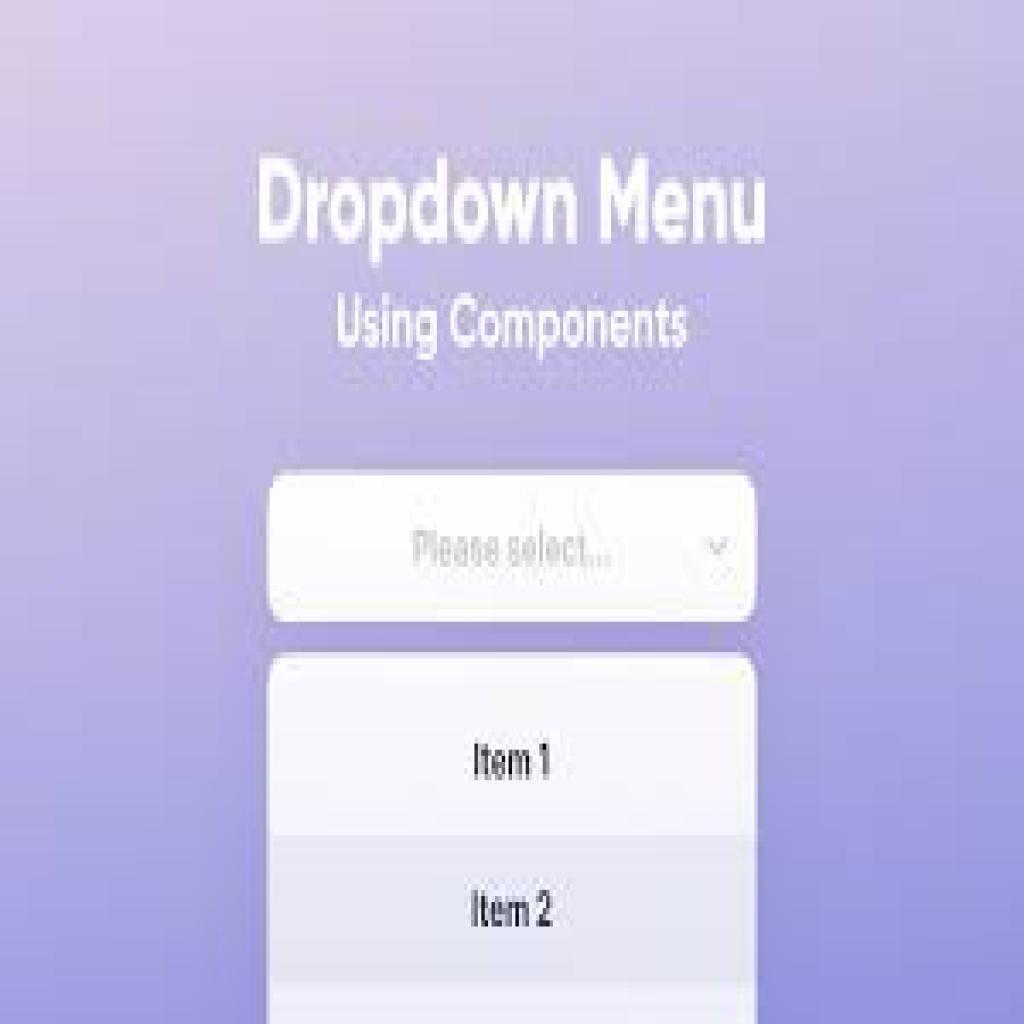dropdown: (267, 469, 757, 625)
